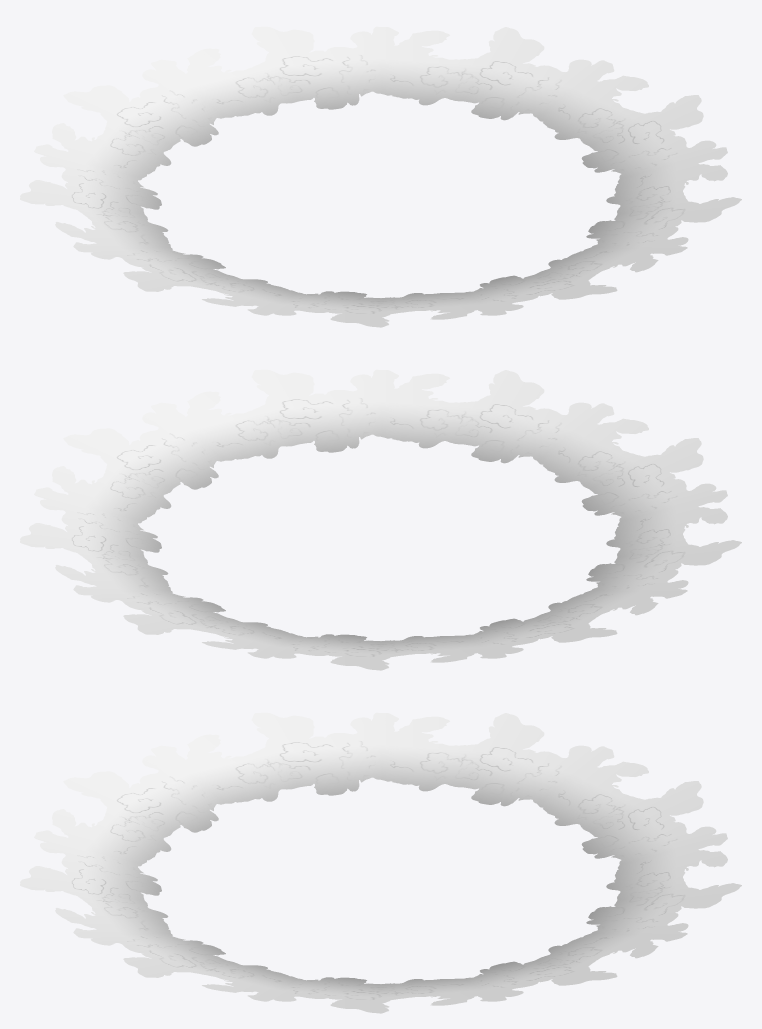
The model's file is Clouds_Flat.FBX.
3 views of the same model, one above another, from view 1: azimuth 30°, elevation 25°; view 2: azimuth 150°, elevation 25°; view 3: azimuth 270°, elevation 25° (orthographic).
Visible parts, largest first — view 1: Cylinder001; view 2: Cylinder001; view 3: Cylinder001.
Boxes of the visible parts, x1=… form: Cylinder001: x1=20, y1=26, x2=741, y2=327; Cylinder001: x1=20, y1=369, x2=741, y2=670; Cylinder001: x1=20, y1=712, x2=741, y2=1013.
Bounding box in the file's own units: 413 × 18.33 × 406.
